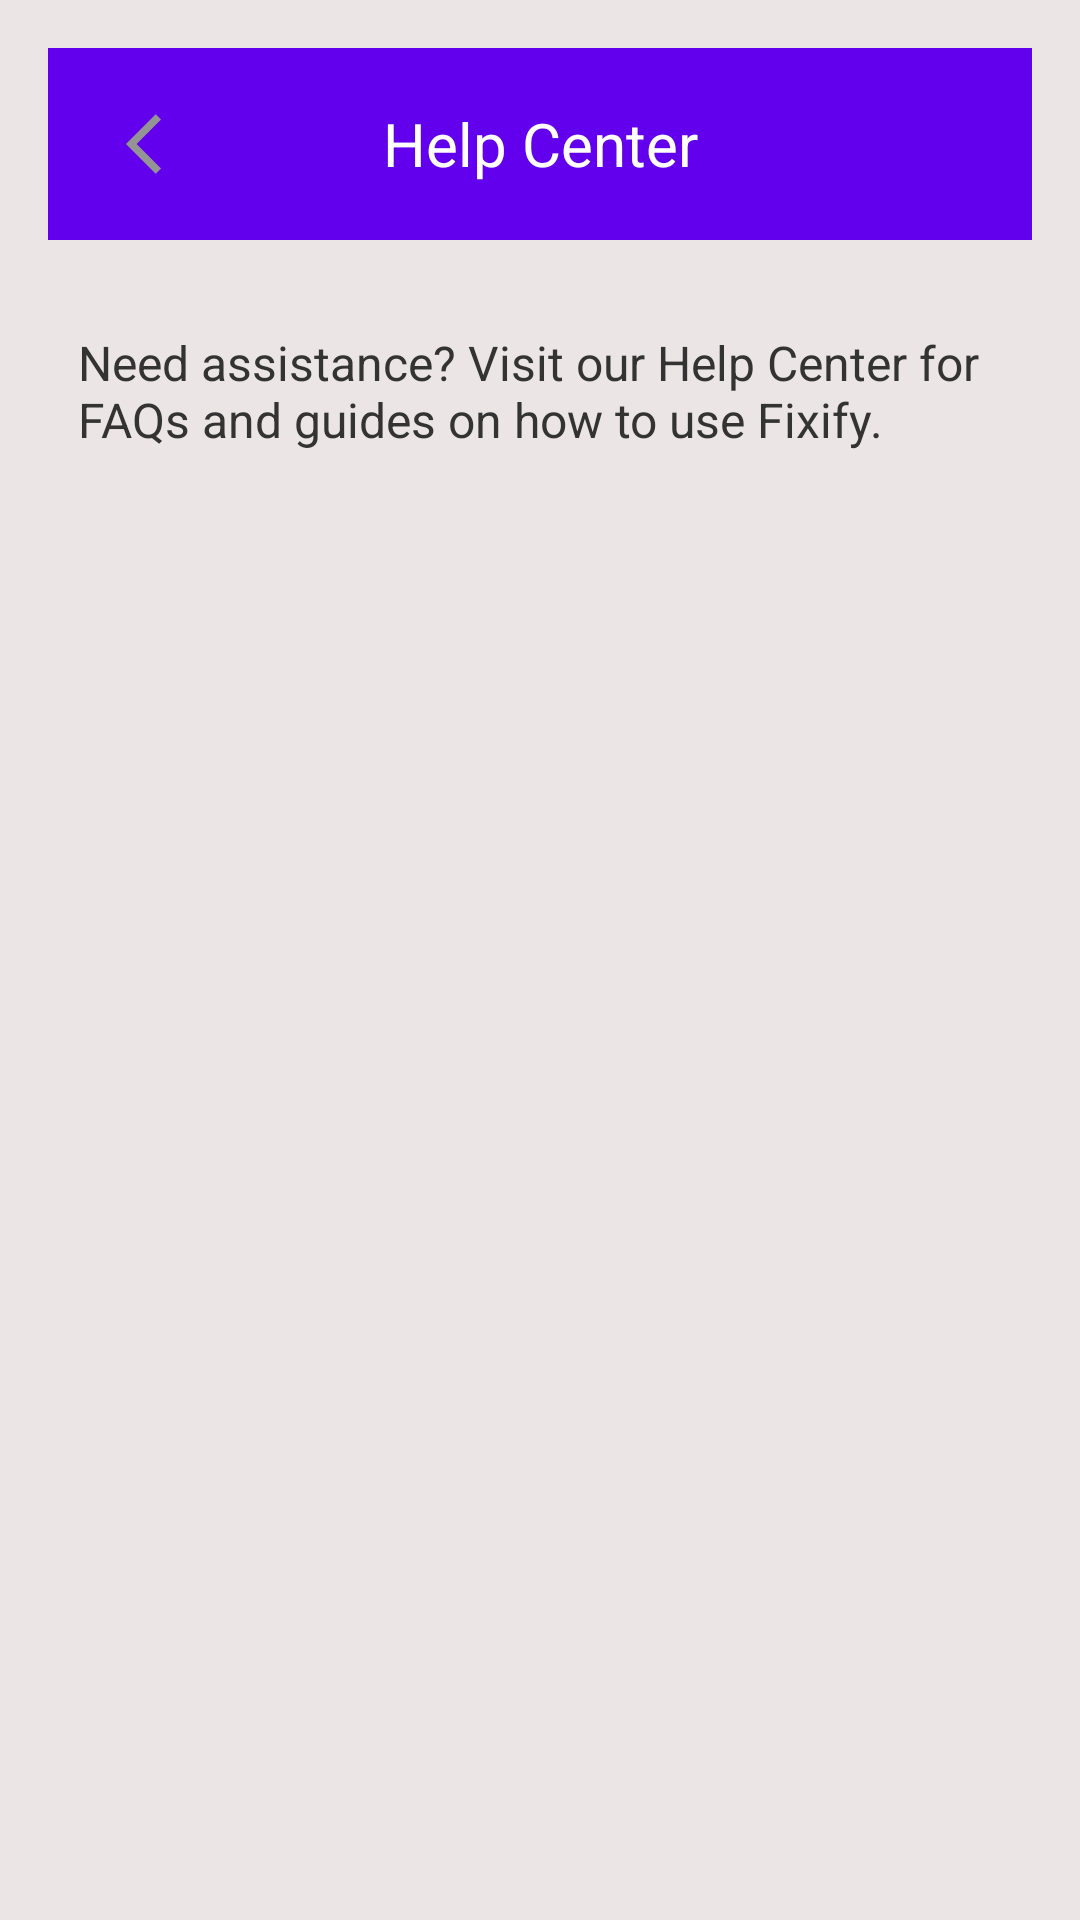

Where to tap for icons on this 1080 × 1920 app screen, as (x,y):
Back Arrow: (143,144)
